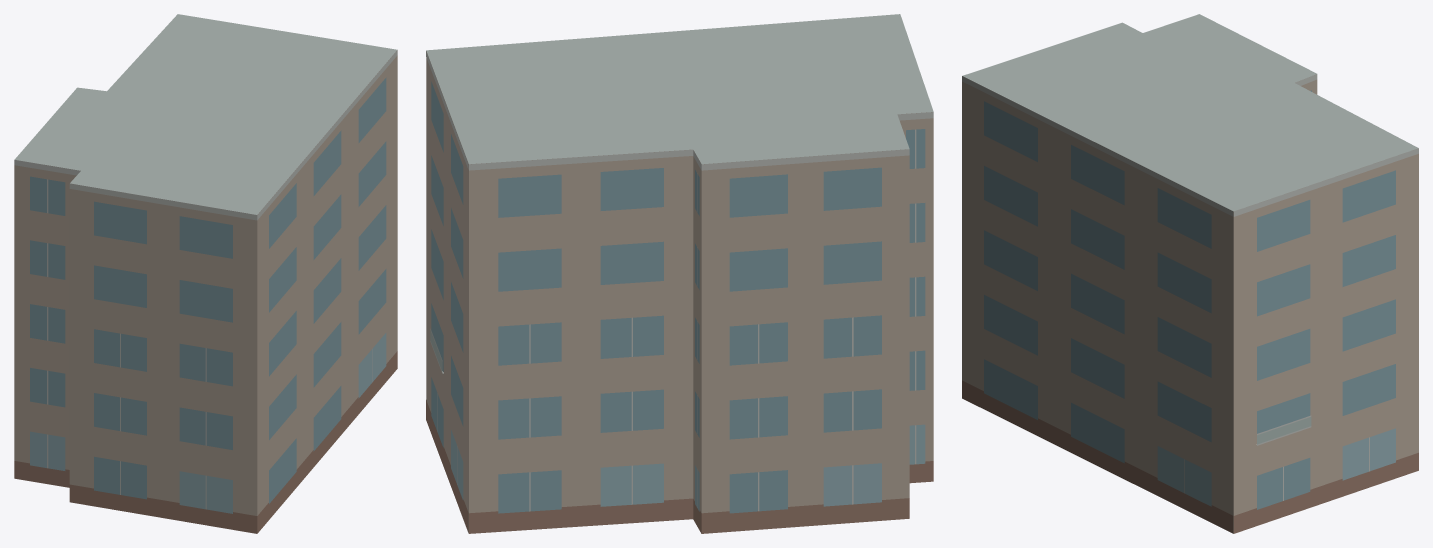
Rendered from survey-upis-32816440.glb.
3 renders of one model, left to right at view 1: azimuth 30°, elevation 25°; view 2: azimuth 150°, elevation 25°; view 3: azimuth 270°, elevation 25°, orthographic. The views are drawn at different scales.
Visible parts, largest first — view 1: survey-upis-32816440.tmp; view 2: survey-upis-32816440.tmp; view 3: survey-upis-32816440.tmp.
Part boxes in pixels (bbox=[...]): survey-upis-32816440.tmp: bbox=[14, 14, 397, 533]; survey-upis-32816440.tmp: bbox=[426, 14, 933, 533]; survey-upis-32816440.tmp: bbox=[962, 14, 1418, 533].
Bounding box in the file's own units: 18.72 × 14.25 × 18.3.
